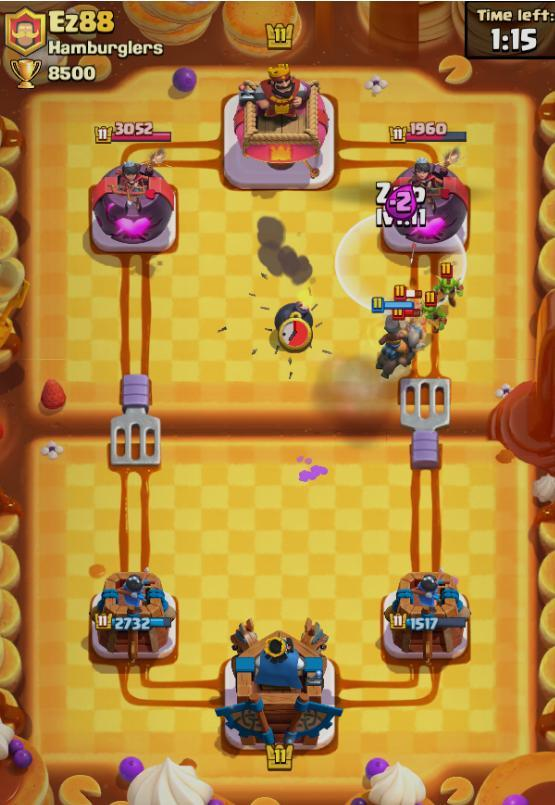EGoblin: (432, 260, 463, 307), (422, 289, 451, 333)
EKingTower: (223, 67, 335, 190)
EnemyPrincessTower: (376, 158, 469, 253), (90, 160, 175, 253)
ORamrider: (376, 315, 424, 379)
OwnKingTower: (216, 619, 341, 750)
OwnPrincessTower: (89, 569, 176, 662), (382, 572, 469, 663)
